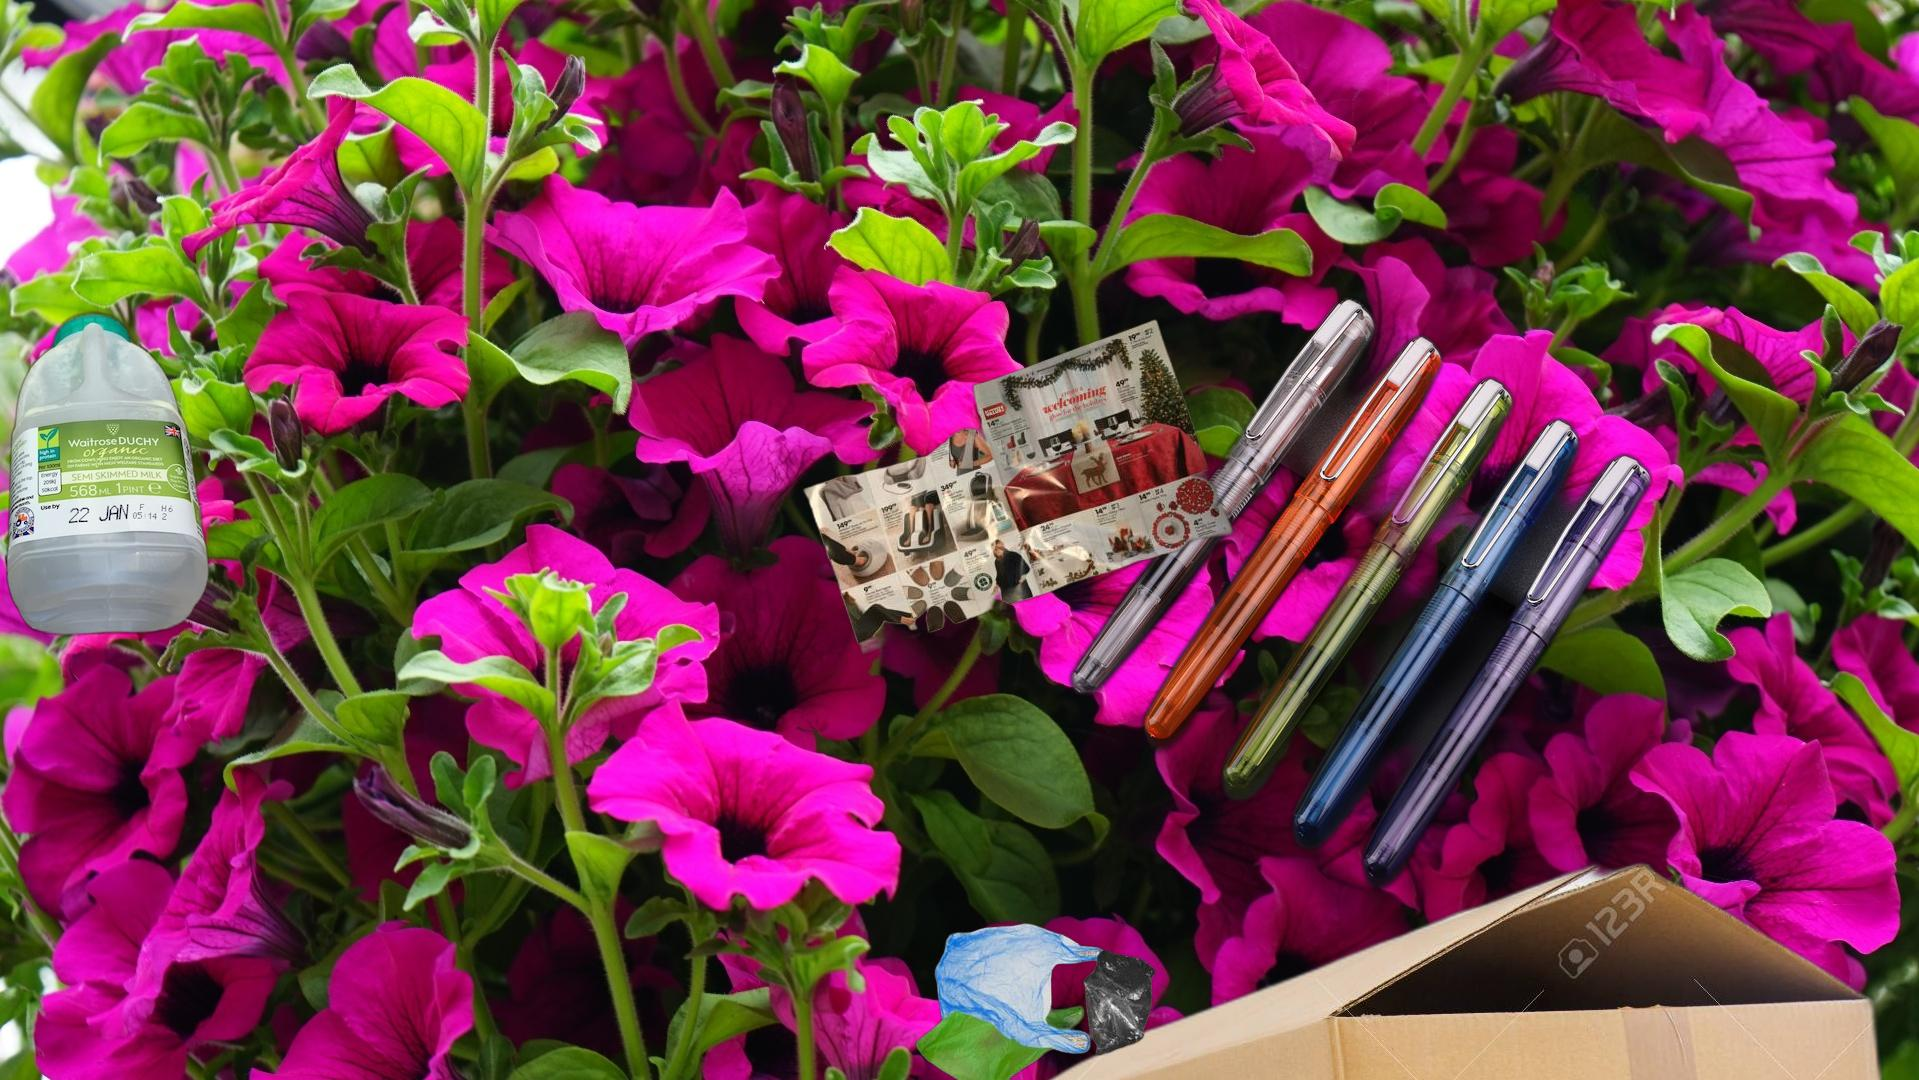paper: (799, 316, 1242, 659)
penholder: (1062, 291, 1658, 895)
plastic-bag: (913, 920, 1157, 1080)
plastic-bottles: (3, 307, 214, 641)
shoes: (1872, 1014, 1919, 1080)
trashbox-cardboard: (952, 839, 1919, 1080)
